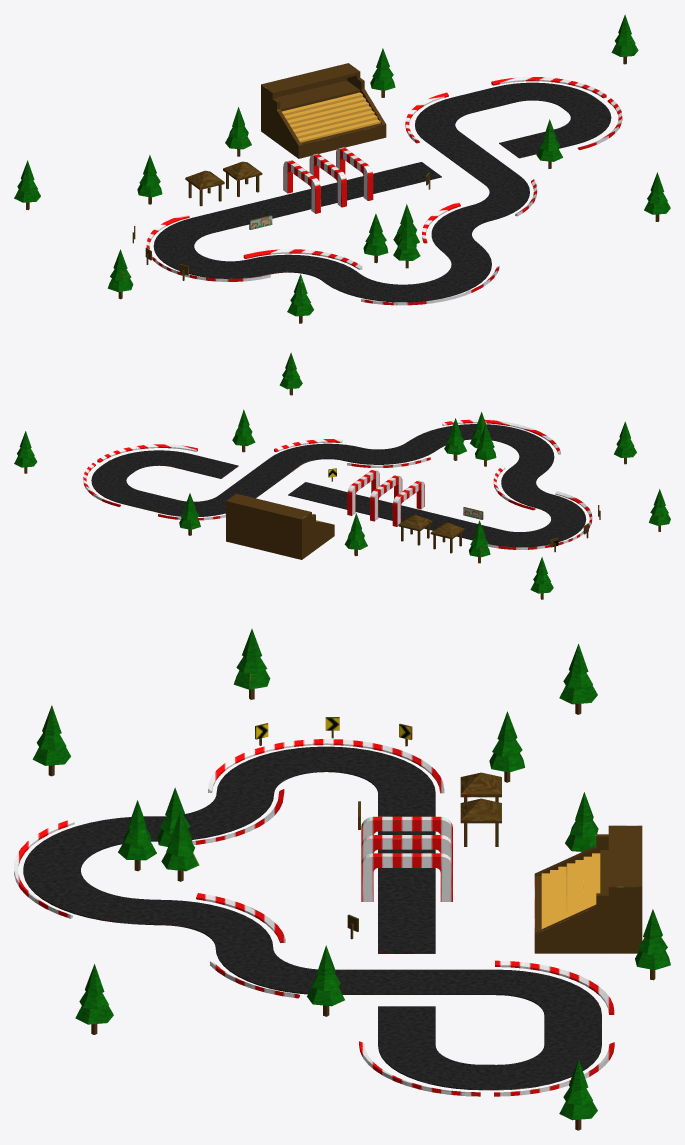
The model's file is track.glb.
3 views of the same model, one above another, from view 1: azimuth 30°, elevation 25°; view 2: azimuth 150°, elevation 25°; view 3: azimuth 270°, elevation 25° (orthographic). The views are drawn at different scales.
Visible parts, largest first — view 1: Track; view 2: Track; view 3: Track.
Part boxes in pixels (x1,y1,x2,y2): Track: (14, 14, 670, 323); Track: (14, 352, 670, 599); Track: (14, 629, 670, 1130).
Size of the model in its own units: 58.05 by 4.33 by 36.06.
Materials: 1 (1 with a texture image).
